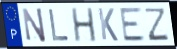E: (118, 6, 147, 43)
H: (70, 7, 99, 43)
K: (97, 7, 120, 43)
L: (47, 8, 70, 42)
N: (21, 7, 48, 44)
Z: (145, 7, 170, 42)
